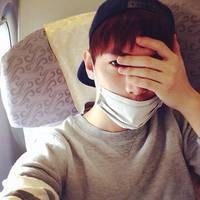face_mask: (94, 41, 163, 130)
